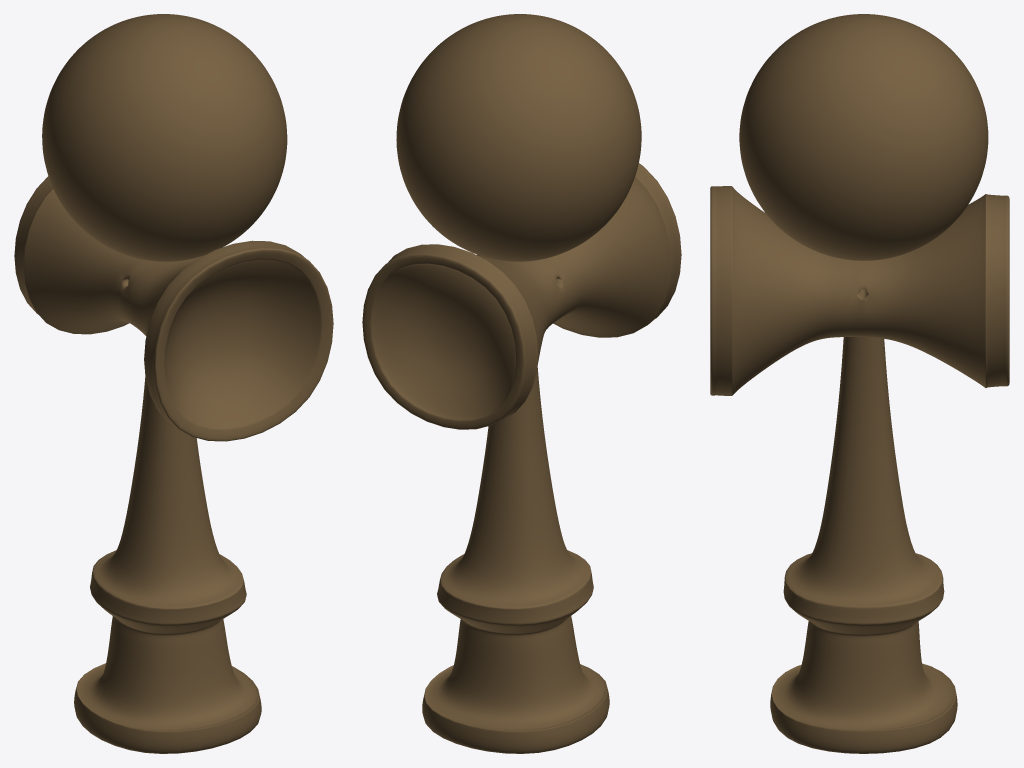
3 renders of one model, left to right at view 1: azimuth 30°, elevation 25°; view 2: azimuth 150°, elevation 25°; view 3: azimuth 270°, elevation 25°, orthographic.
Parts seen in each view (by area): view 1: Ball, Ken_Cups1, Ken_Stick; view 2: Ball, Ken_Cups1, Ken_Stick; view 3: Ball, Ken_Stick, Ken_Cups1.
Part boxes in pixels (x1=…): Ball: x1=42, y1=14, x2=287, y2=261; Ken_Cups1: x1=14, y1=176, x2=333, y2=441; Ken_Stick: x1=74, y1=378, x2=261, y2=753; Ball: x1=396, y1=14, x2=641, y2=261; Ken_Cups1: x1=362, y1=163, x2=681, y2=429; Ken_Stick: x1=422, y1=367, x2=609, y2=753; Ball: x1=739, y1=14, x2=988, y2=260; Ken_Stick: x1=770, y1=336, x2=957, y2=753; Ken_Cups1: x1=710, y1=186, x2=1009, y2=395.
Size of the model in its own units: 4.32 by 13.52 by 5.3.
